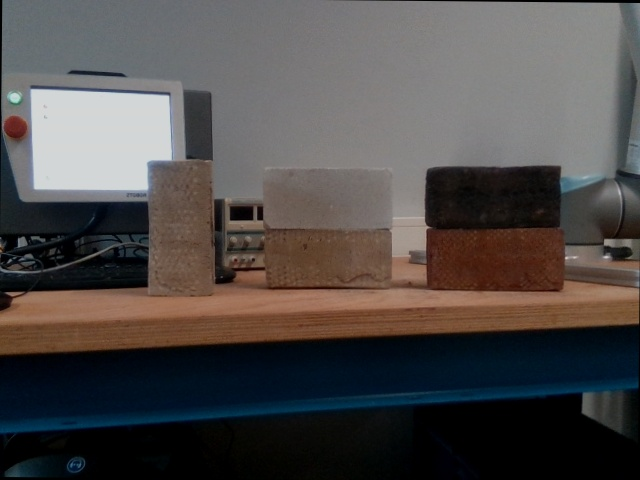brick: (426, 230, 560, 290), (148, 162, 208, 295), (264, 168, 388, 231), (426, 168, 557, 227), (266, 232, 390, 286)
